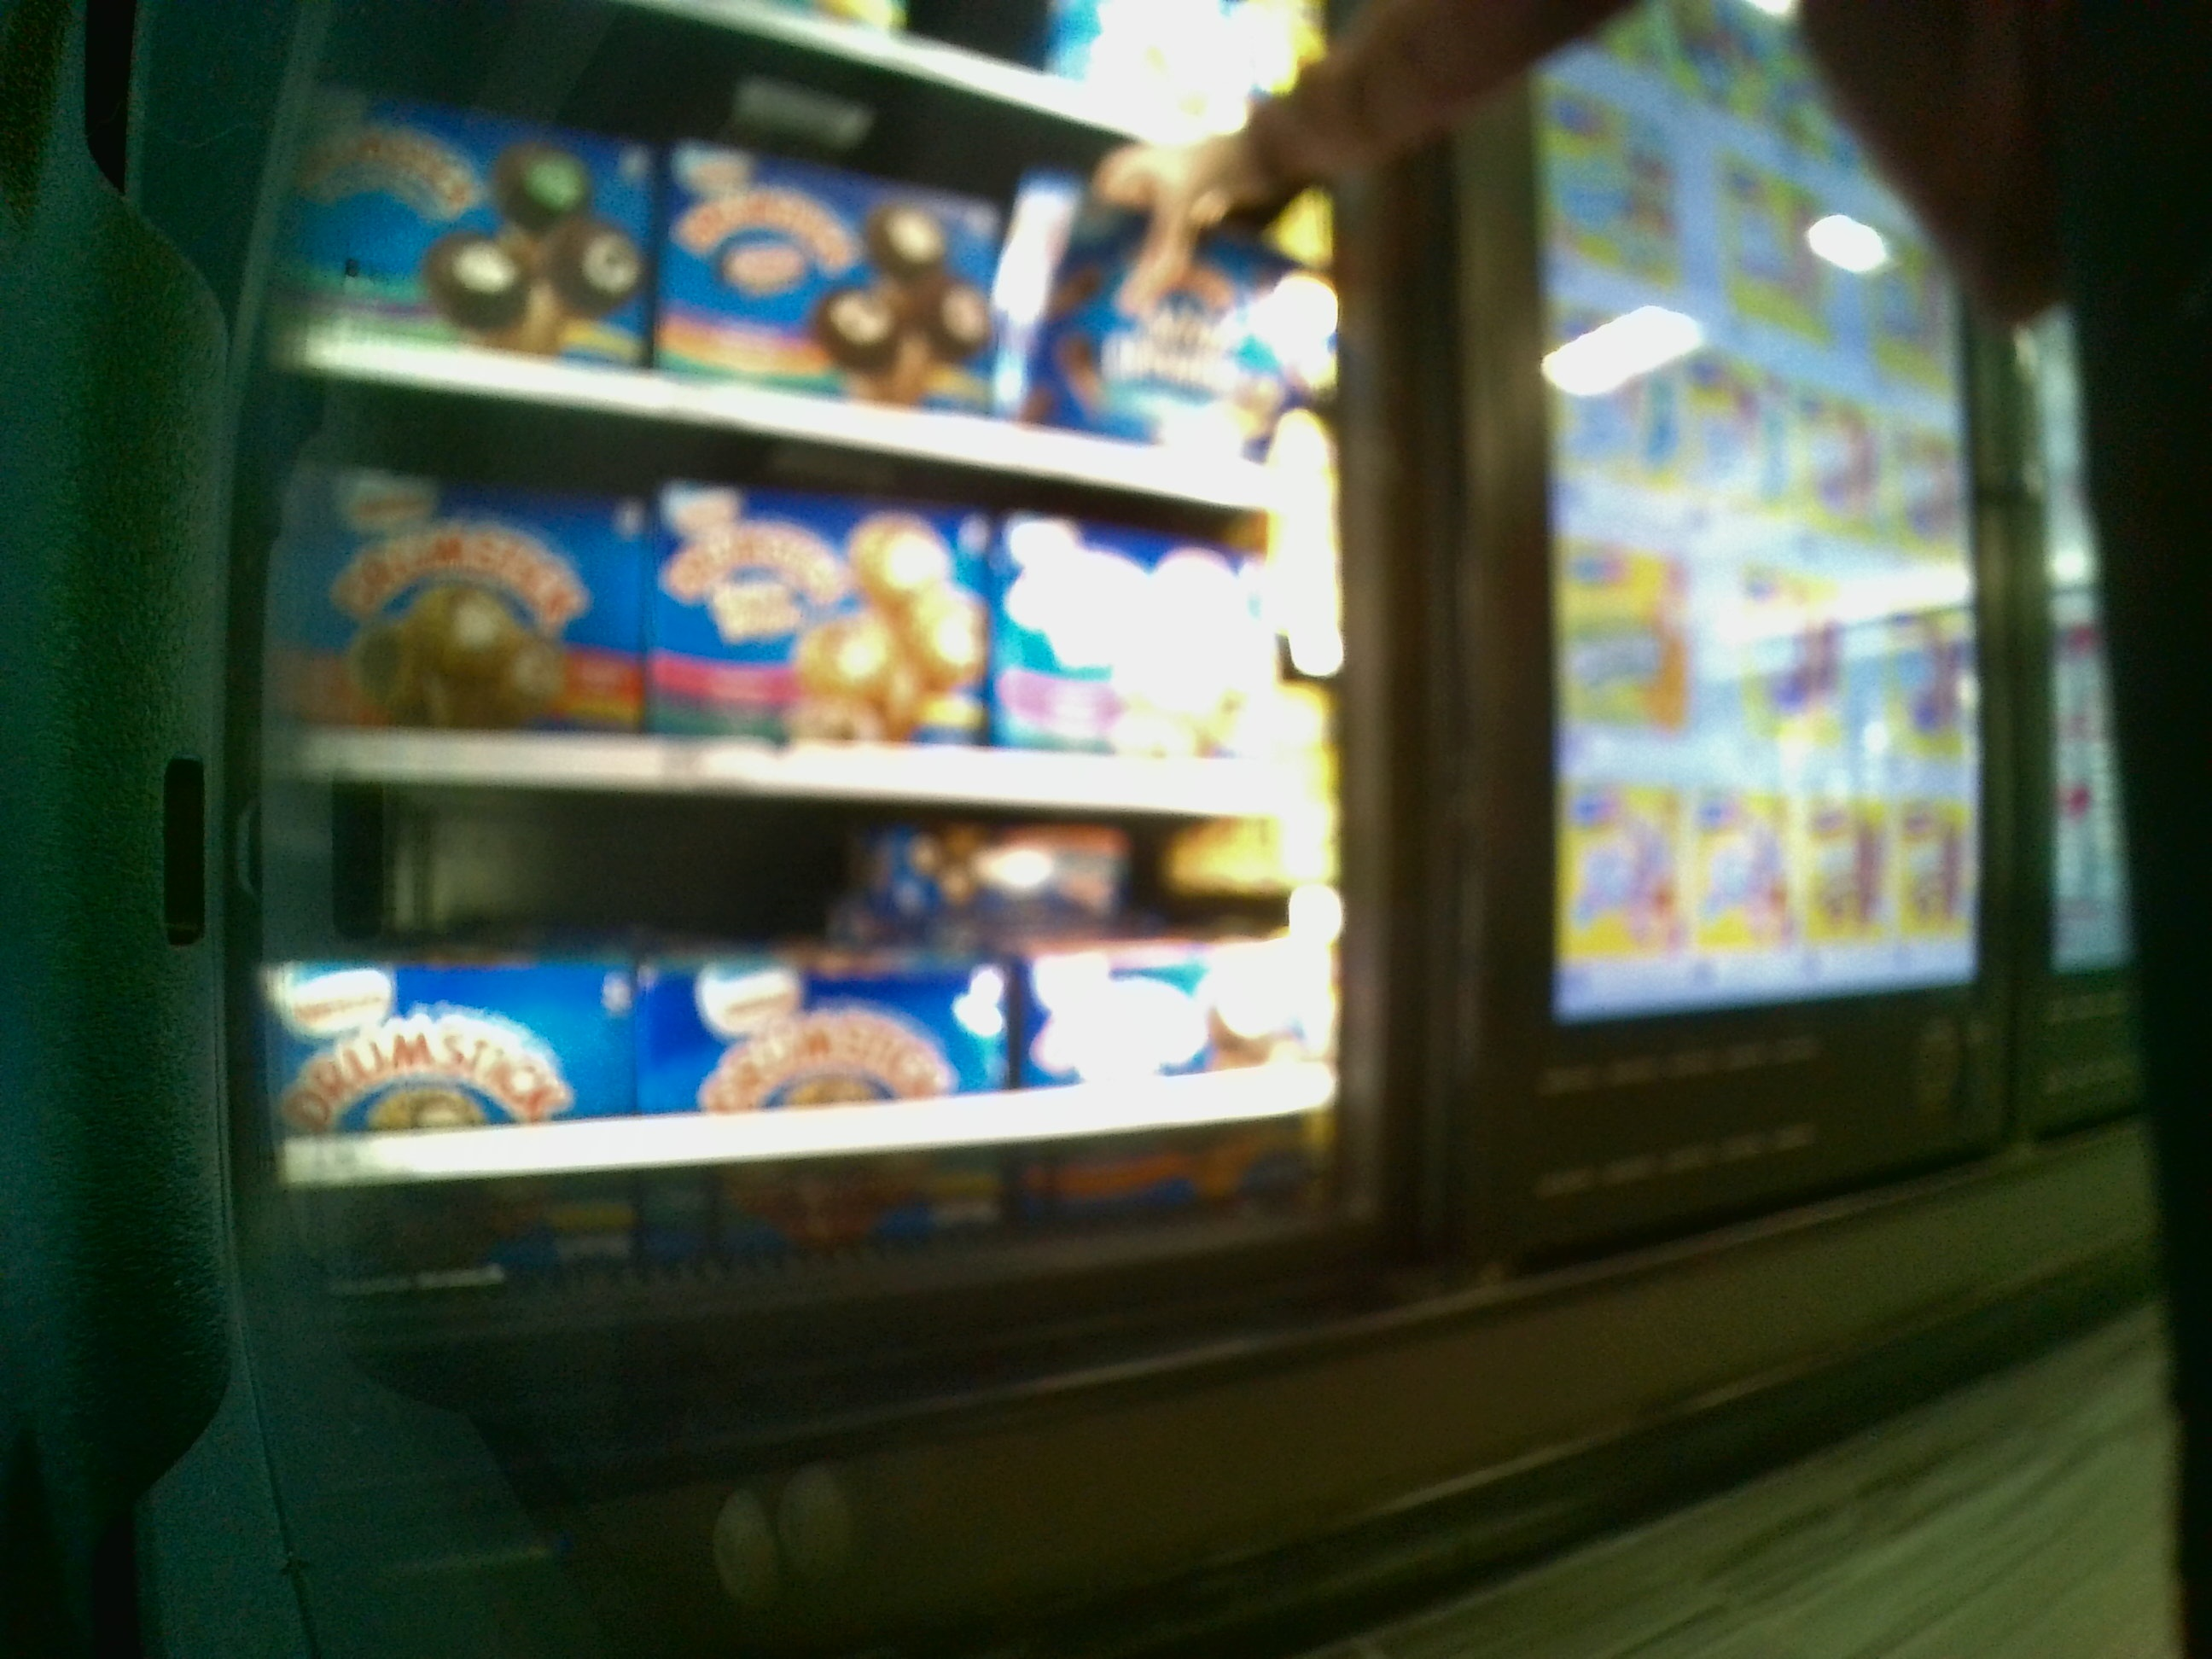shelf: (279, 817, 1346, 1284), (272, 448, 1331, 816)
